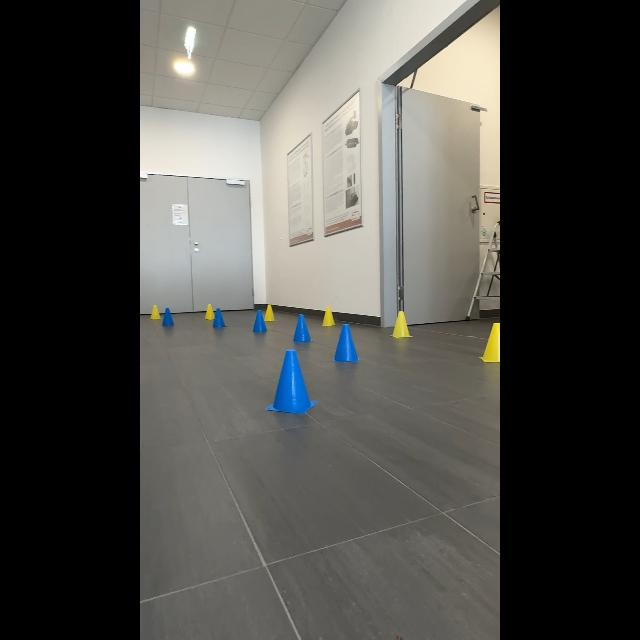blue_cone: (264, 348, 320, 418), (331, 320, 359, 372)
yellow_cone: (480, 316, 500, 366), (389, 307, 415, 345)
